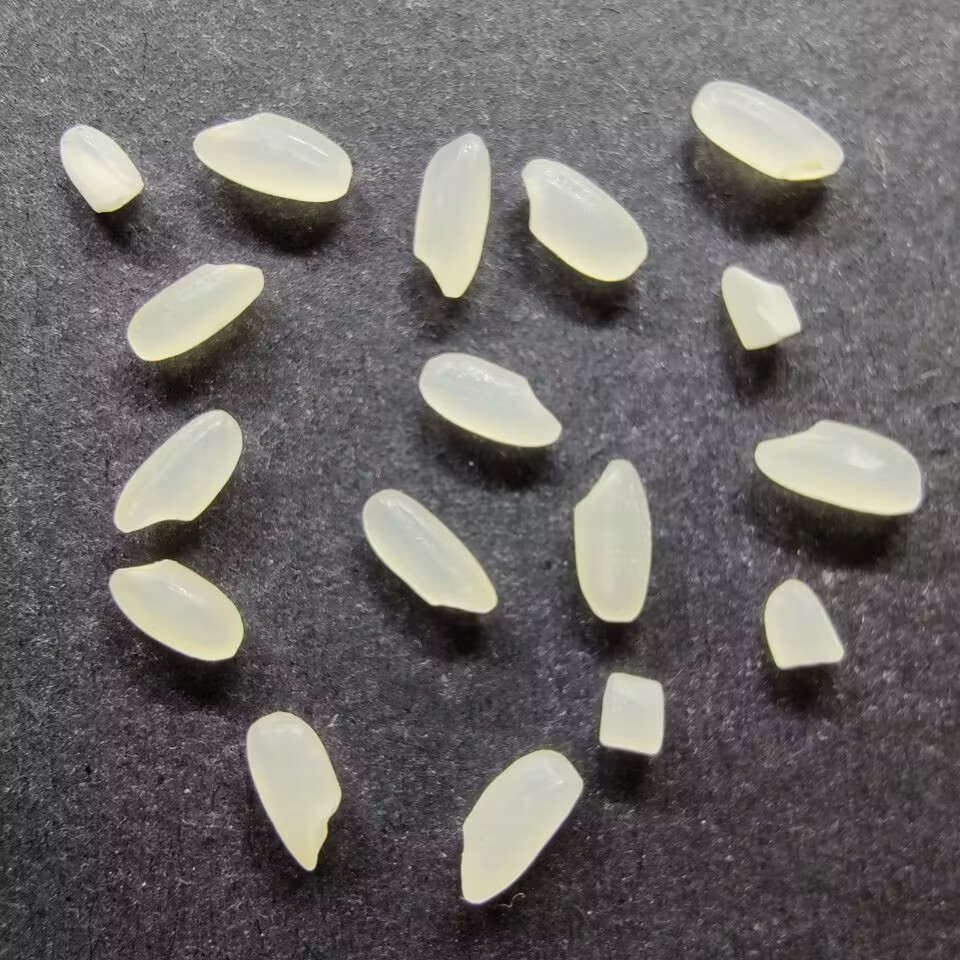broken: (57, 123, 146, 213), (761, 578, 845, 672), (719, 264, 804, 352), (593, 672, 671, 755)
rice: (457, 746, 584, 905), (360, 487, 498, 614), (752, 418, 922, 517), (111, 407, 243, 534), (518, 157, 650, 283), (243, 709, 342, 872), (689, 79, 845, 182), (191, 110, 353, 202), (416, 351, 565, 449), (124, 261, 267, 362), (106, 557, 244, 661), (571, 457, 655, 624), (410, 130, 492, 299)
